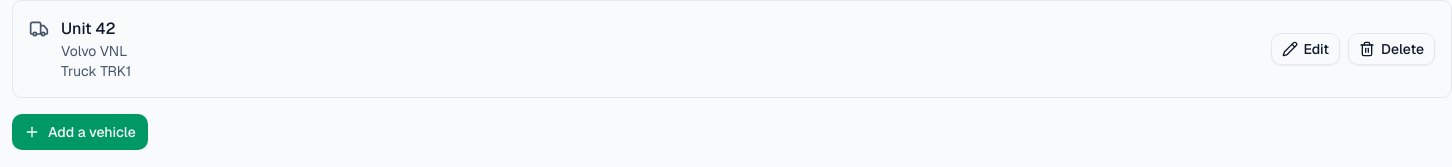
Scenario: VehicleList › deletes a vehicle once confirmed
Click the button with aria-label "Delete Unit 42" at (1391, 49), box [1348,33,1435,65]
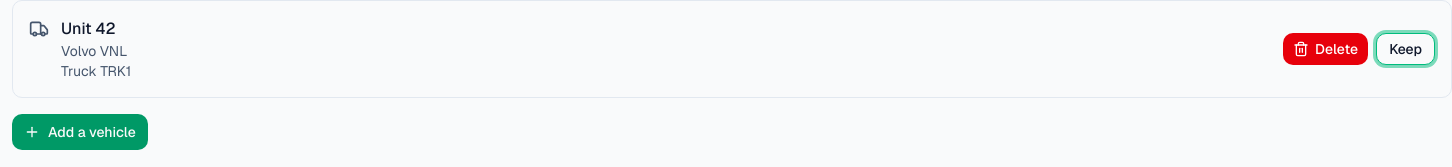
Click the button "Keep" at (1406, 49), box [1376,33,1435,65]
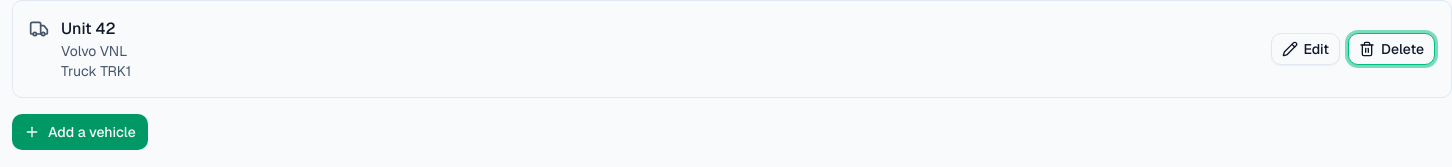
Click the button with aria-label "Delete Unit 42" at (1391, 49), box [1348,33,1435,65]
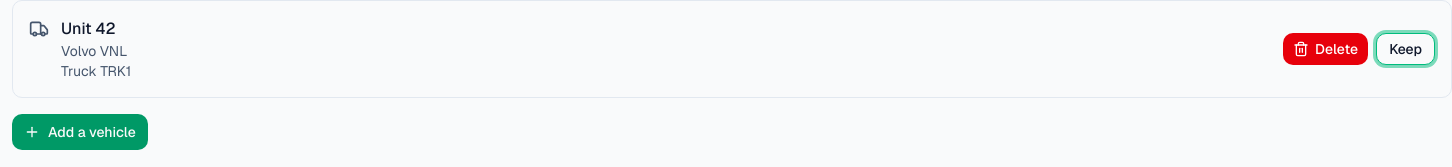
Click the button "Delete" at (1326, 49), box [1283,33,1368,65]
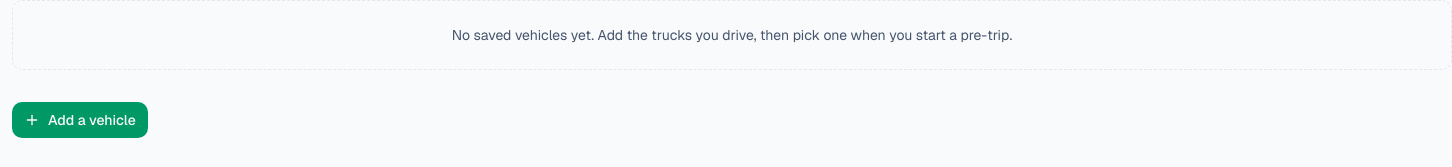
Now the text "No saved vehicles yet" is shown, box [452,26,1012,44]
